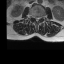CCS_normal: (36, 14, 38, 24)
LFS_normal: (40, 14, 42, 20)
LLS_stenosis: (38, 14, 40, 22)
RFS_stenosis: (32, 14, 34, 19)
RLS_normal: (34, 15, 36, 21)
